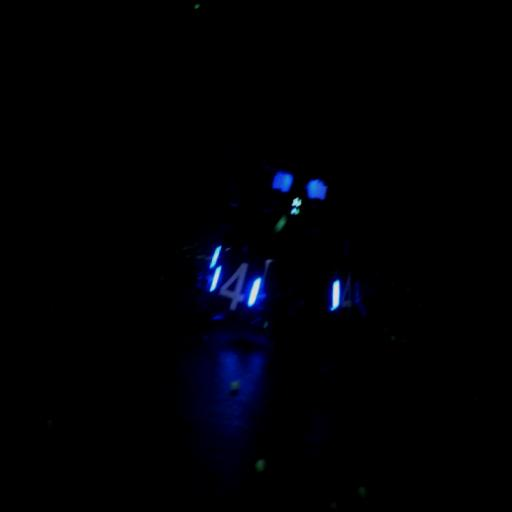target: (205, 245, 278, 316), (323, 262, 368, 332)
